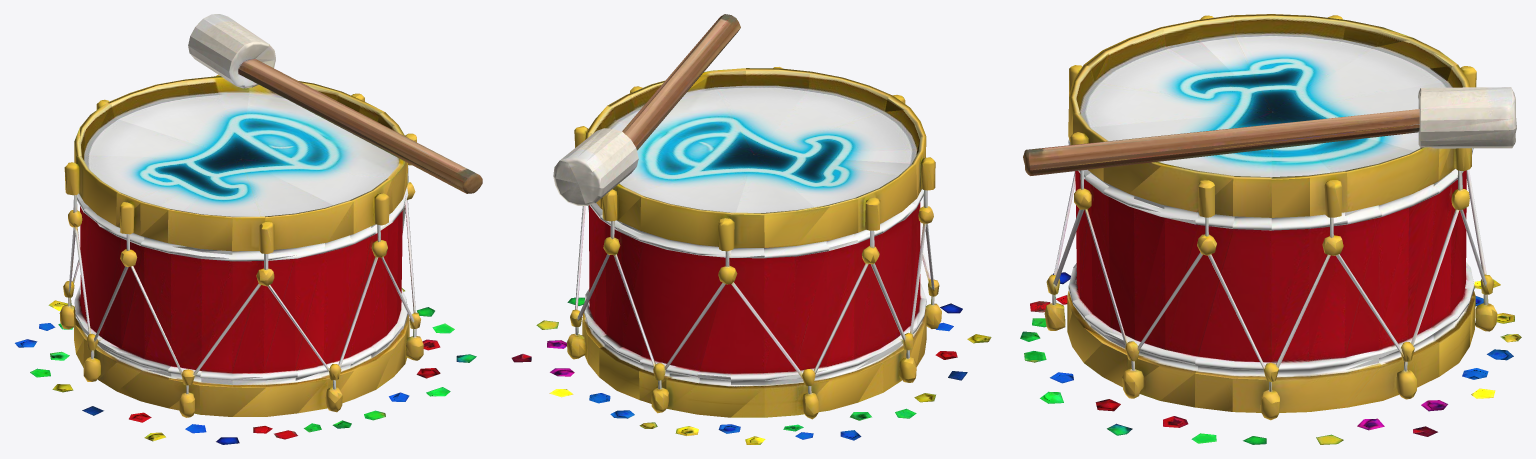
The model's file is ad_drum.glb.
3 renders of one model, left to right at view 1: azimuth 30°, elevation 25°; view 2: azimuth 150°, elevation 25°; view 3: azimuth 270°, elevation 25°, orthographic. The views are drawn at different scales.
Bounding box in the file's own units: 1 × 0.6387 × 0.998.
Materials: 1 (1 with a texture image).
